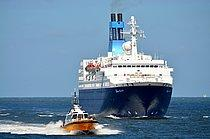Ship: (75, 10, 178, 123)
